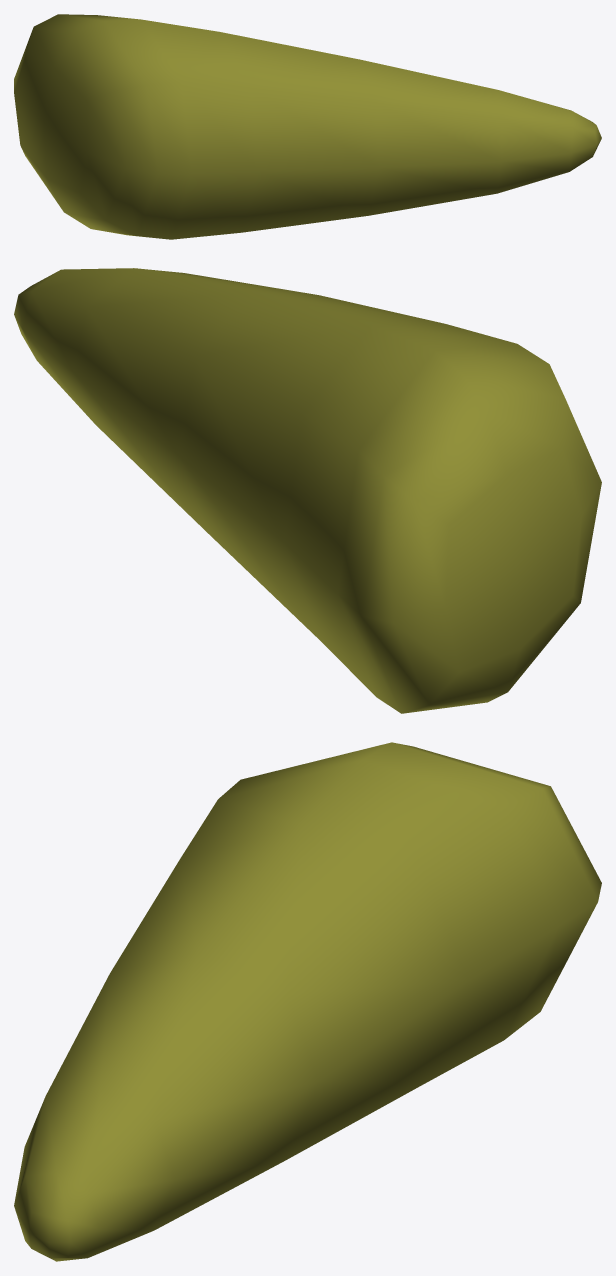
File: PANCREAS.fbx
The picture shows the model from 3 angles, top to bottom: view 1: azimuth 30°, elevation 25°; view 2: azimuth 150°, elevation 25°; view 3: azimuth 270°, elevation 25°; orthographic projection. The views are drawn at different scales.
Parts seen in each view (by area): view 1: PANCREAS; view 2: PANCREAS; view 3: PANCREAS.
Part boxes in pixels (left/top/right/bottom): PANCREAS: left=14, top=14, right=601, bottom=239; PANCREAS: left=14, top=268, right=601, bottom=713; PANCREAS: left=14, top=742, right=601, bottom=1261.
Bounding box in the file's own units: 102 × 47.49 × 76.62.
